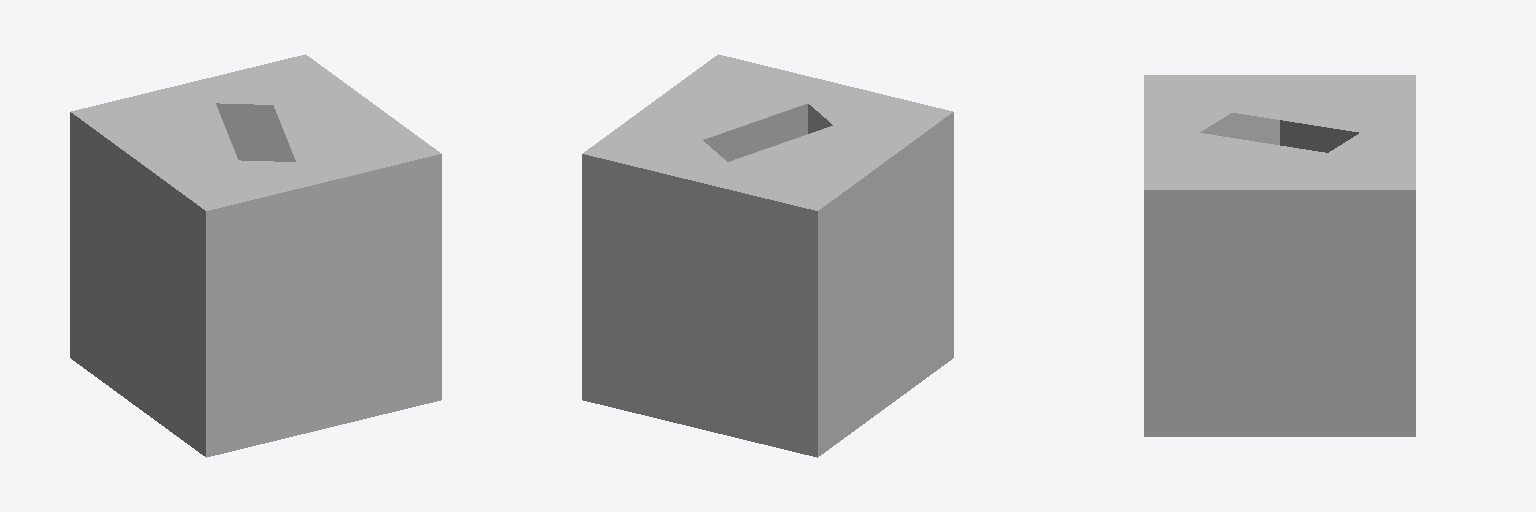
Rendered from Diamond_cube_bottle.obj.
The picture shows the model from 3 angles: view 1: azimuth 30°, elevation 25°; view 2: azimuth 150°, elevation 25°; view 3: azimuth 270°, elevation 25°; orthographic projection.
Visible parts, largest first — view 1: Bottle_Cube.003; view 2: Bottle_Cube.003; view 3: Bottle_Cube.003.
Boxes of the visible parts, box(x1,y1,x2,y2) form: Bottle_Cube.003: box(70, 54, 441, 457); Bottle_Cube.003: box(582, 54, 953, 457); Bottle_Cube.003: box(1144, 75, 1415, 436).
Size of the model in its own units: 0.08 by 0.08 by 0.08.